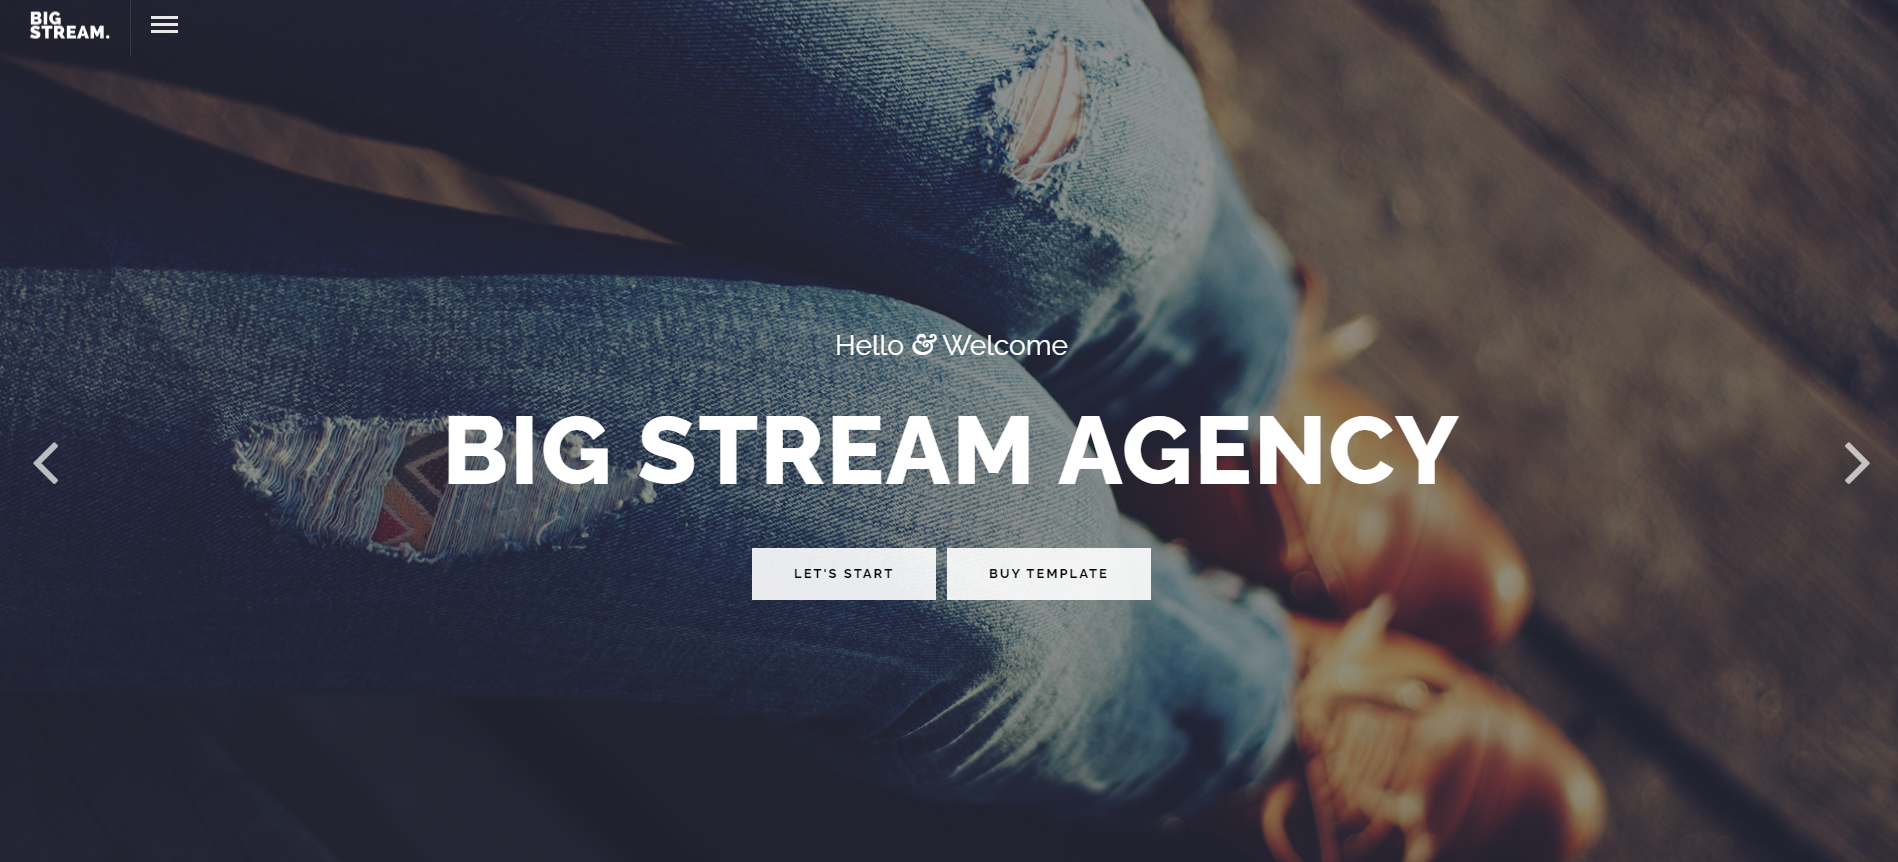menu-icon: (13, 8, 334, 858)
